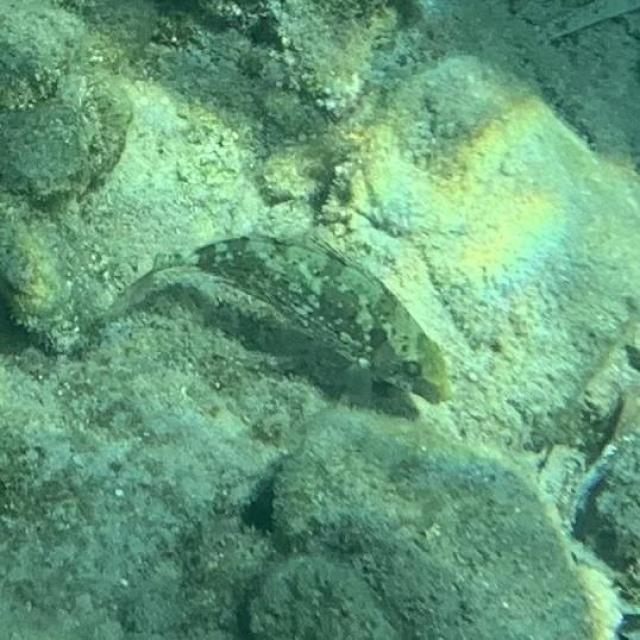Sokar Baligi: (98, 196, 476, 438)
